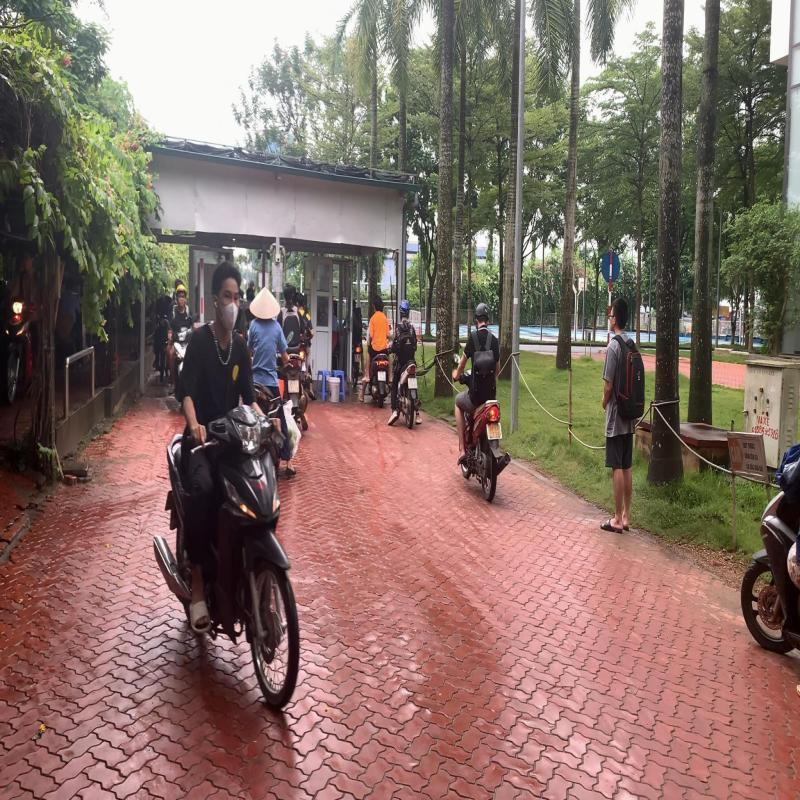nohelmet: (283, 282, 294, 303), (372, 294, 382, 314)
